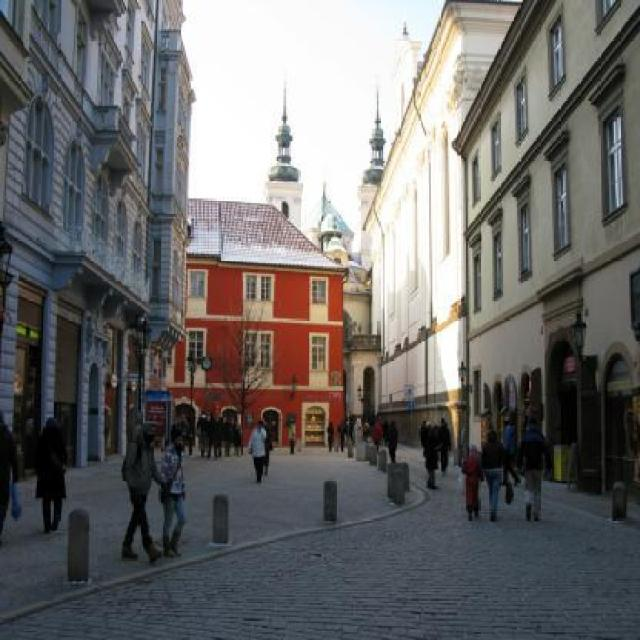Person: (1, 412, 554, 562), (459, 414, 550, 524), (115, 423, 167, 563), (36, 417, 76, 538), (158, 418, 187, 552), (322, 406, 401, 452), (418, 412, 454, 491), (192, 412, 245, 461), (0, 412, 20, 536), (248, 420, 269, 482), (287, 412, 298, 456)
